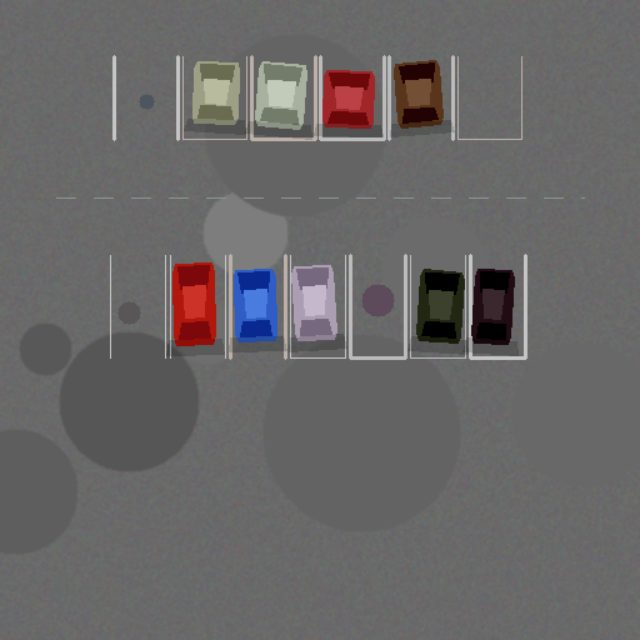space-empty: (110, 255, 165, 358), (350, 255, 405, 358), (457, 56, 521, 139), (114, 56, 177, 139)
space-occupied: (170, 255, 225, 358), (230, 255, 285, 358), (290, 255, 345, 358), (410, 255, 465, 358), (470, 255, 525, 358), (251, 56, 315, 139), (320, 56, 384, 139), (389, 56, 453, 139), (183, 56, 246, 139)
